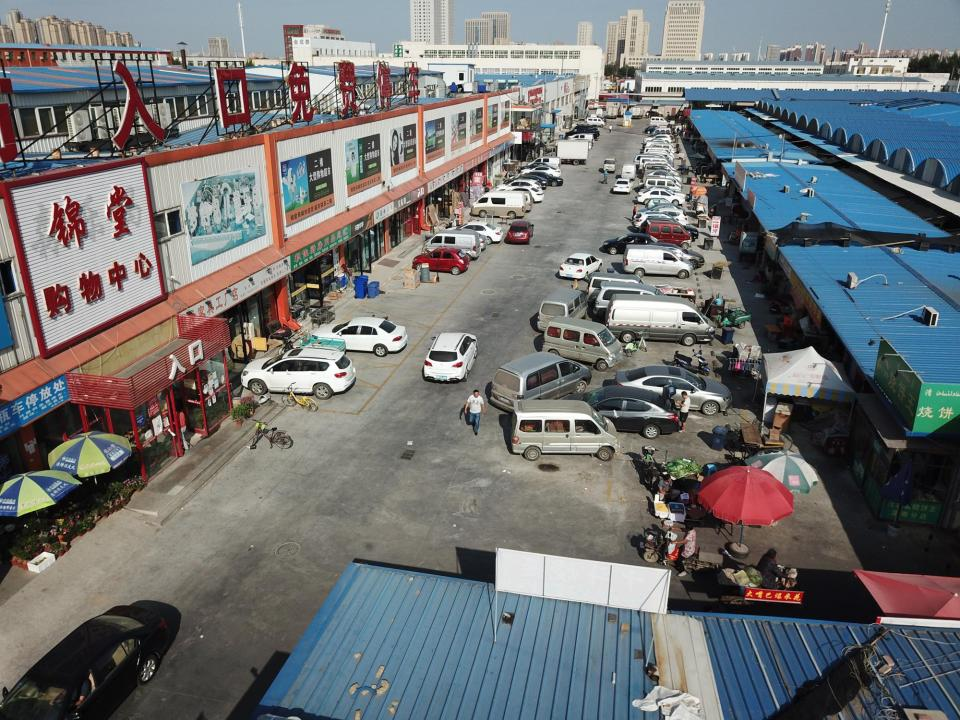car: (0, 598, 180, 720), (243, 347, 355, 398), (613, 366, 732, 414), (572, 390, 680, 440), (313, 317, 408, 356), (422, 332, 479, 382), (635, 242, 704, 269), (414, 247, 469, 277), (603, 232, 662, 258), (640, 215, 698, 241), (559, 253, 604, 281), (450, 222, 502, 245), (436, 228, 486, 249), (640, 204, 683, 224), (639, 184, 686, 202), (501, 186, 543, 204), (635, 212, 674, 230), (648, 209, 689, 226), (639, 190, 683, 205), (644, 168, 684, 184), (506, 222, 535, 244), (500, 180, 542, 195), (521, 171, 561, 186), (520, 168, 560, 182), (508, 174, 546, 188), (646, 198, 676, 212), (518, 162, 551, 174), (643, 135, 672, 147), (613, 178, 635, 193), (643, 141, 671, 152), (643, 138, 667, 150), (576, 126, 600, 137), (562, 142, 590, 151), (568, 134, 595, 143), (569, 139, 593, 149), (643, 126, 664, 135), (648, 109, 664, 118), (587, 116, 607, 123)
truck: (545, 140, 588, 165), (631, 106, 645, 119), (607, 106, 617, 118)
van: (508, 399, 619, 461), (491, 350, 592, 413), (607, 294, 716, 344), (543, 317, 624, 371), (595, 280, 673, 321), (624, 245, 695, 280), (539, 286, 588, 334), (586, 273, 650, 308), (423, 231, 480, 262), (472, 192, 526, 219), (644, 220, 691, 250), (486, 190, 530, 215), (642, 160, 678, 176), (645, 164, 680, 180), (644, 175, 679, 190), (645, 178, 682, 192), (640, 158, 674, 173), (566, 125, 598, 139), (633, 156, 670, 168), (532, 157, 561, 171), (643, 147, 671, 160), (646, 130, 676, 142), (646, 153, 672, 165), (648, 151, 674, 163), (648, 150, 672, 162), (648, 143, 674, 154), (568, 134, 594, 145), (620, 164, 637, 179), (647, 141, 670, 152), (650, 128, 671, 138), (603, 157, 616, 173), (648, 116, 668, 125), (586, 118, 605, 127), (595, 108, 603, 117)
